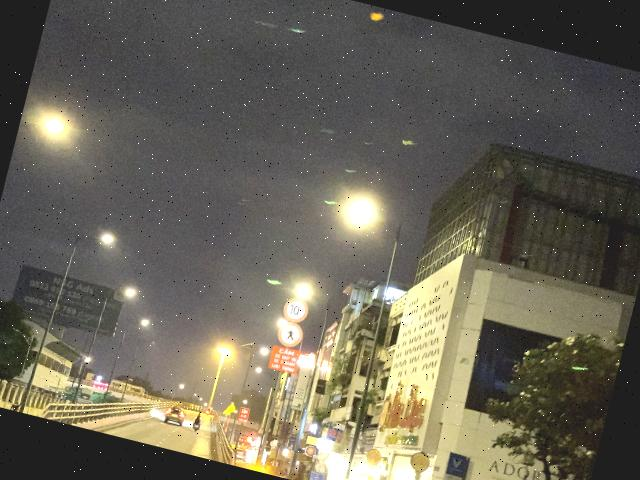cam-nguoi-di-bo: (274, 320, 304, 350)
han-che-trong-luong-xe: (280, 296, 310, 326)
